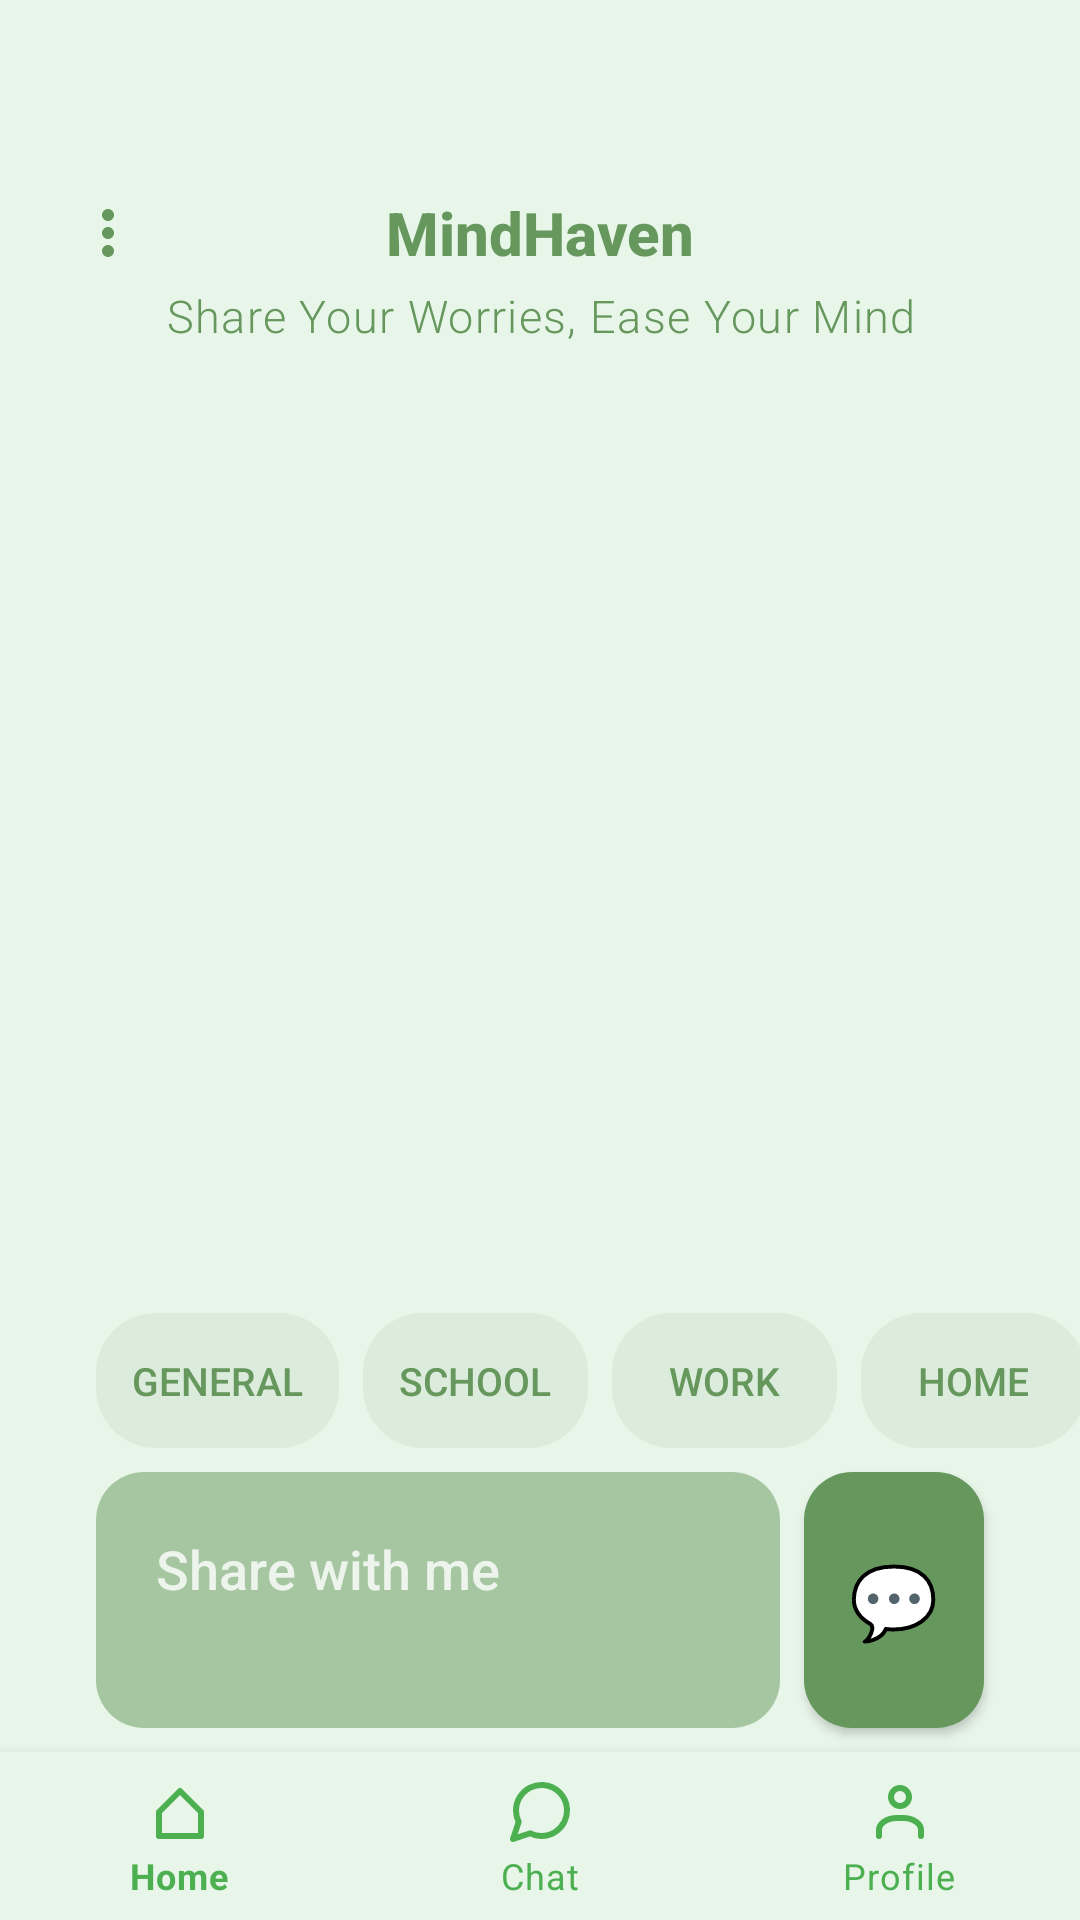

Icon bounding boxes for this 1080 x 1920 phone screenshot, format detection(x1, y1, x2, y2):
more vert: detection(102, 209, 114, 257)
